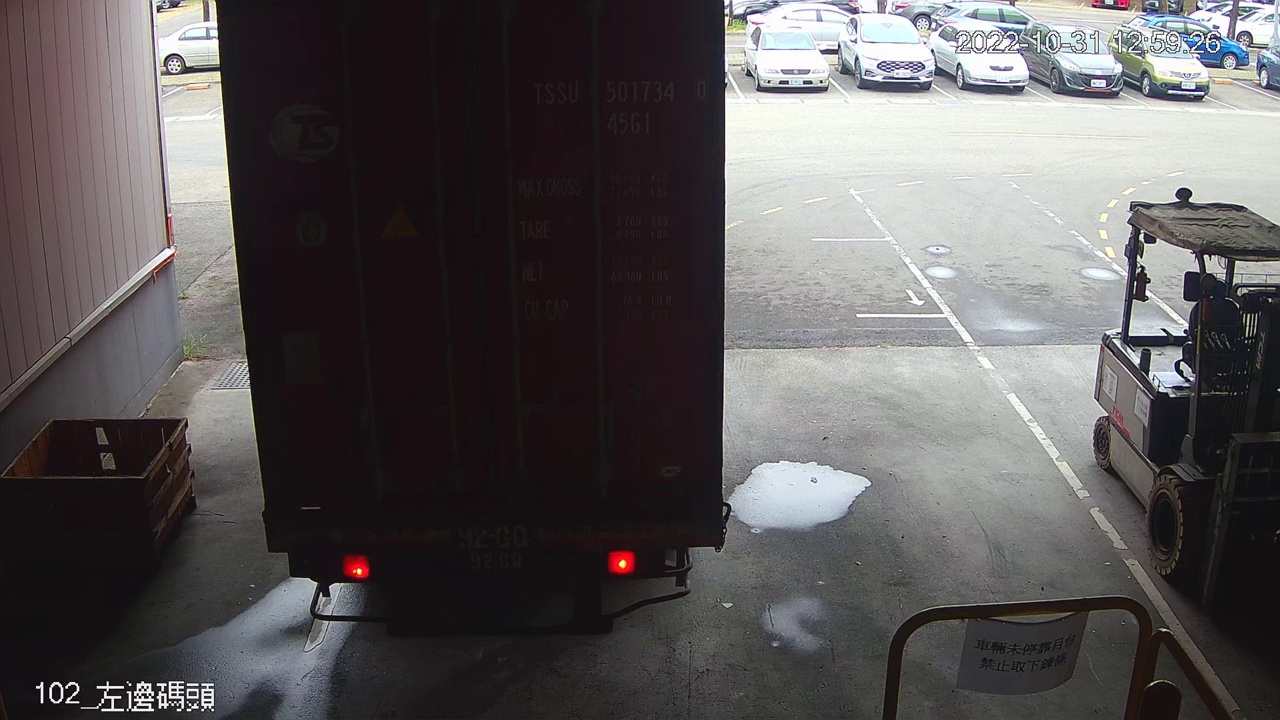container: (525, 70, 715, 141)
